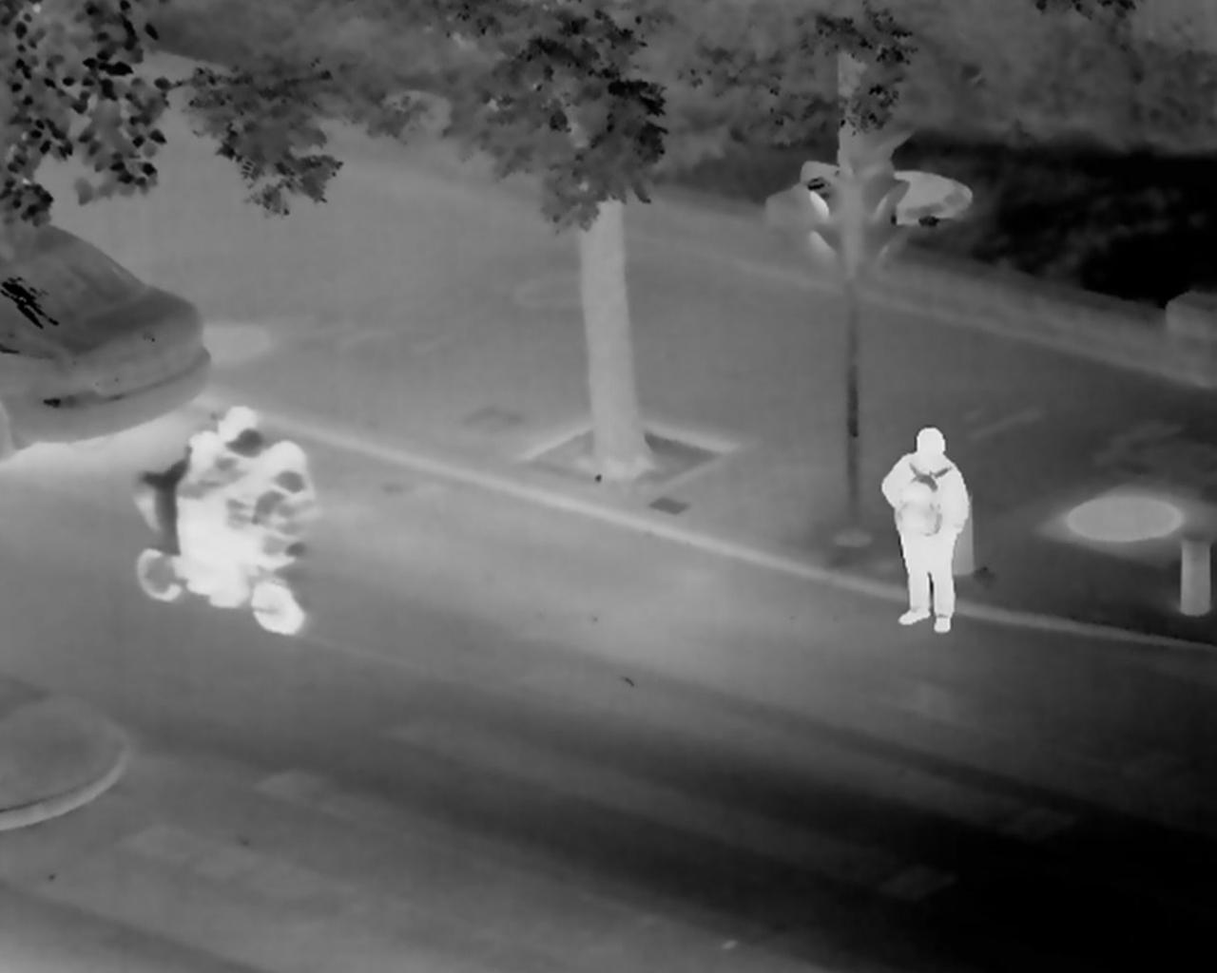person: (872, 415, 988, 640), (191, 398, 306, 617)
